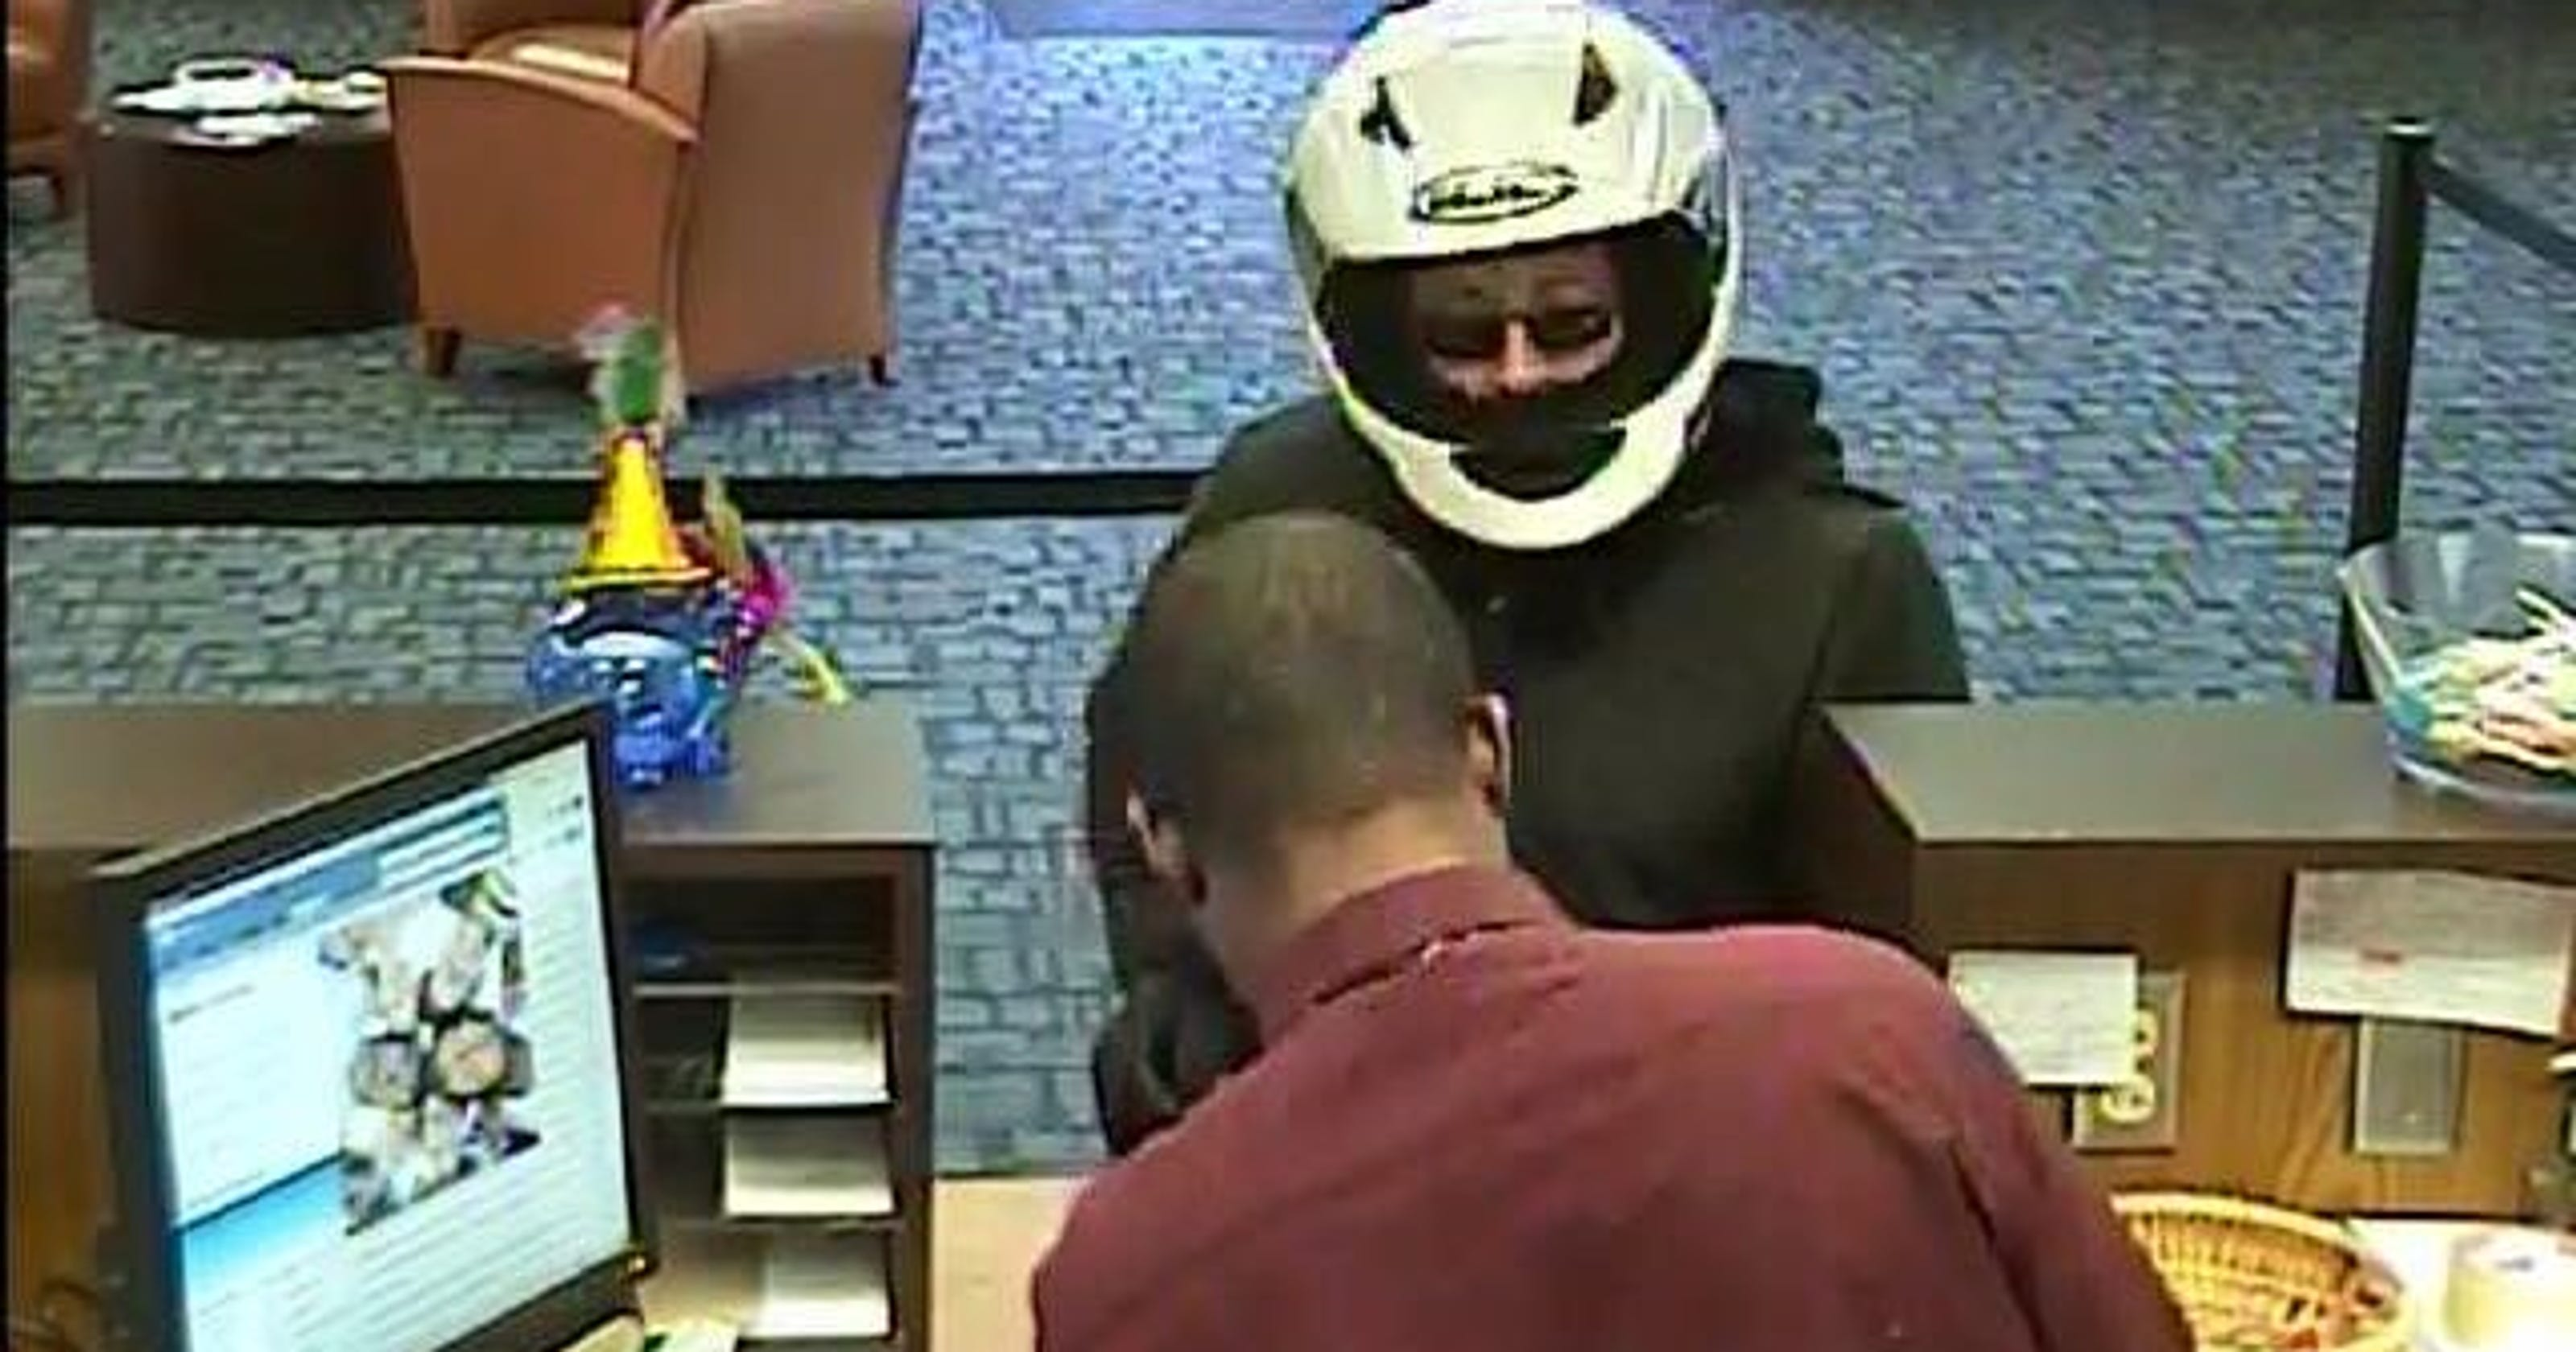helmet: (1236, 0, 1803, 571)
